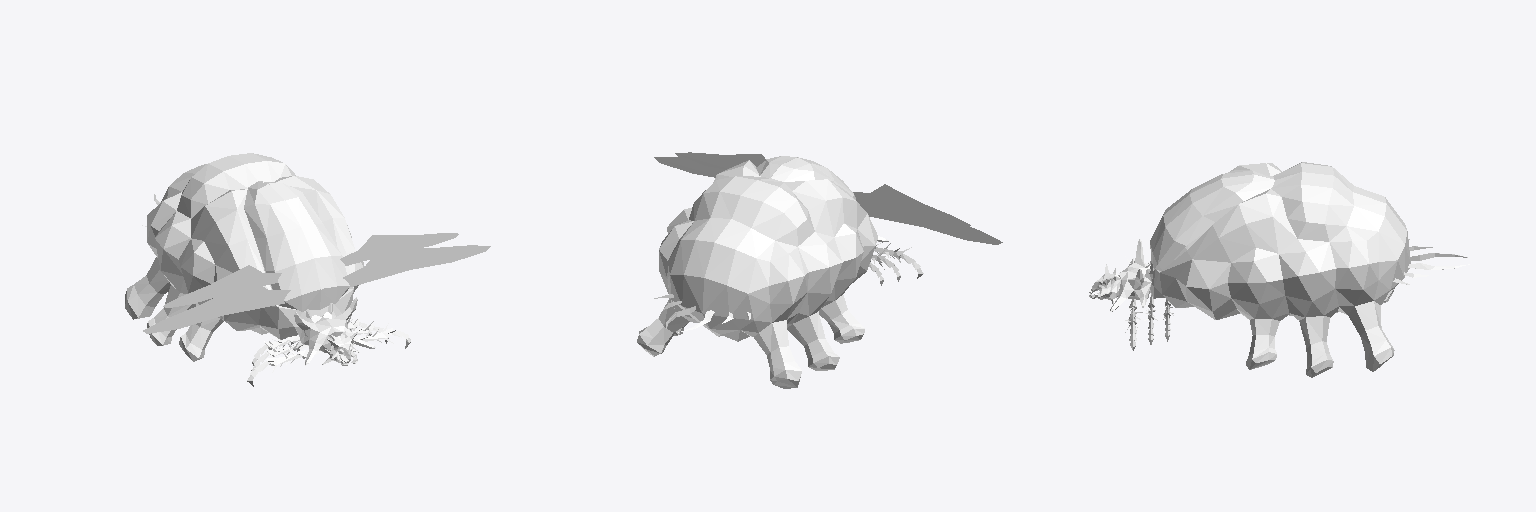
Rendered from bug.obj.
3 renders of one model, left to right at view 1: azimuth 30°, elevation 25°; view 2: azimuth 150°, elevation 25°; view 3: azimuth 270°, elevation 25°, orthographic.
Visible parts, largest first — view 1: yb_tw; view 2: yb_tw; view 3: yb_tw.
Boxes of the visible parts, x1,y1,x2,y2 form: yb_tw: [125, 153, 490, 386]; yb_tw: [637, 152, 1002, 388]; yb_tw: [1089, 162, 1469, 377].
Bounding box in the file's own units: 1120 × 515 × 1062.